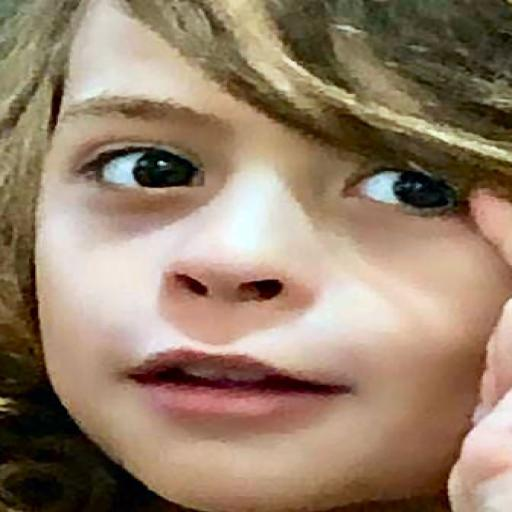Autism: (11, 4, 512, 496)
